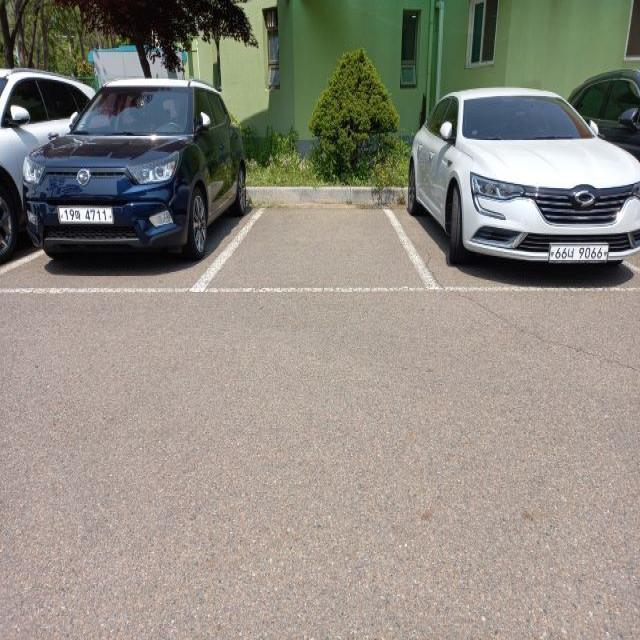Car: (404, 87, 640, 284), (22, 78, 251, 270)
Vacant: (192, 208, 441, 294)
